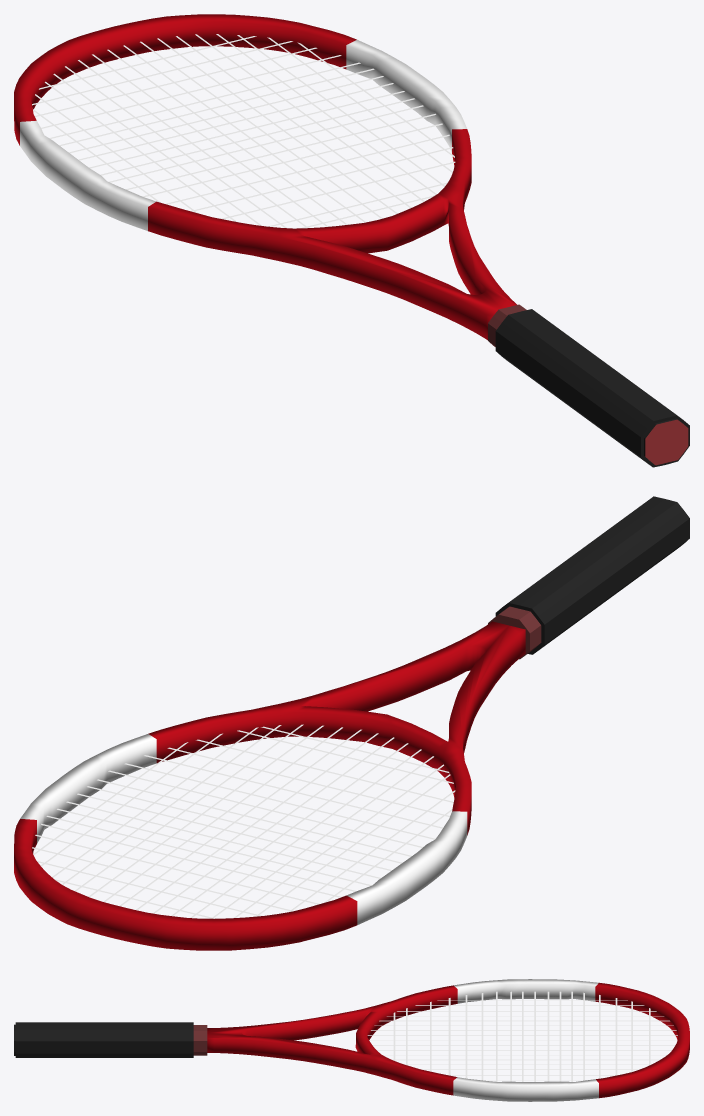
File: RacketRed.fbx
The picture shows the model from 3 angles, top to bottom: view 1: azimuth 30°, elevation 25°; view 2: azimuth 150°, elevation 25°; view 3: azimuth 270°, elevation 25°; orthographic projection. The views are drawn at different scales.
Visible parts, largest first — view 1: Frame, Gut, Grip; view 2: Frame, Gut, Grip; view 3: Frame, Gut, Grip.
Boxes of the visible parts, <box> form: Frame: <box>14,14,517,340</box>; Gut: <box>32,34,455,228</box>; Grip: <box>488,304,689,467</box>; Frame: <box>14,621,525,950</box>; Gut: <box>32,724,455,918</box>; Grip: <box>488,496,689,659</box>; Frame: <box>207,979,689,1101</box>; Gut: <box>367,991,677,1081</box>; Grip: <box>14,1022,207,1057</box>.
Size of the model in its own units: 186 by 23.1 by 494.
